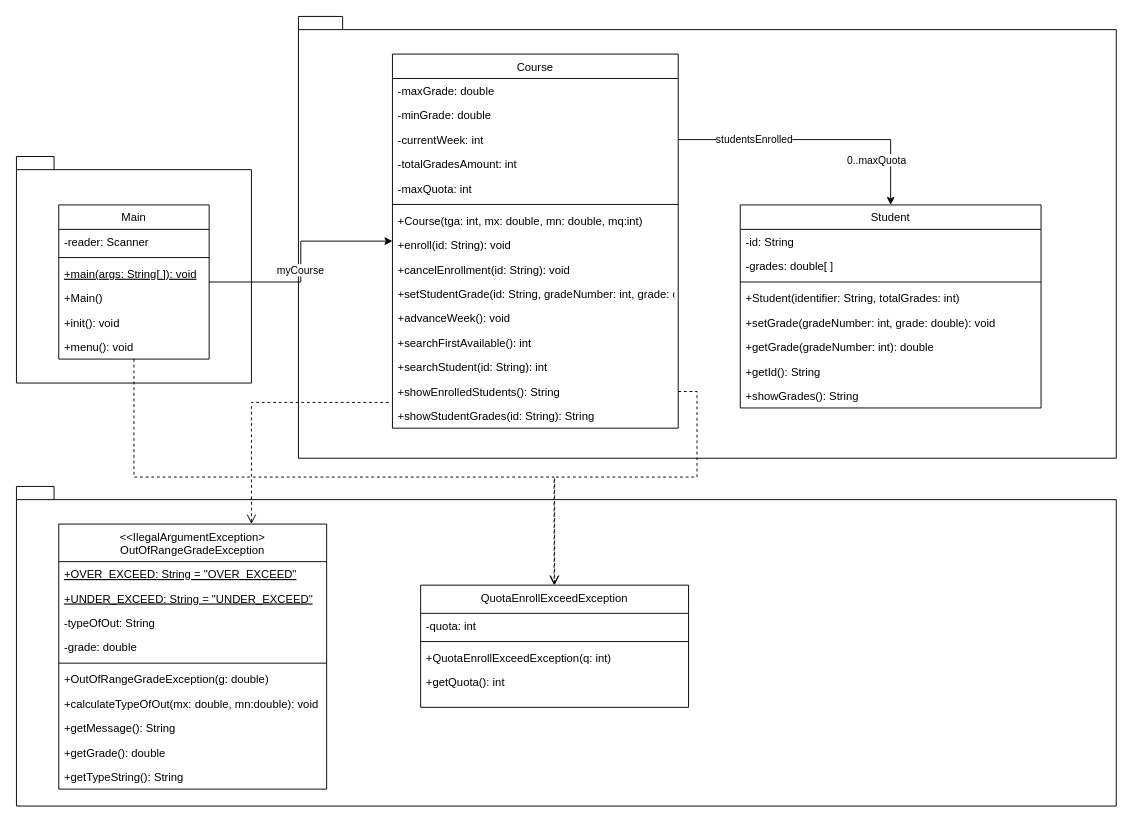
Some shapes in this 1133 by 823 pixel diagram are drawn without their labels. The box of each missing label's shape, as (x1, y1, x2, y2) in pixels:
customExceptions: (16, 486, 1116, 806)
model: (298, 16, 1116, 458)
ui: (16, 156, 251, 383)
